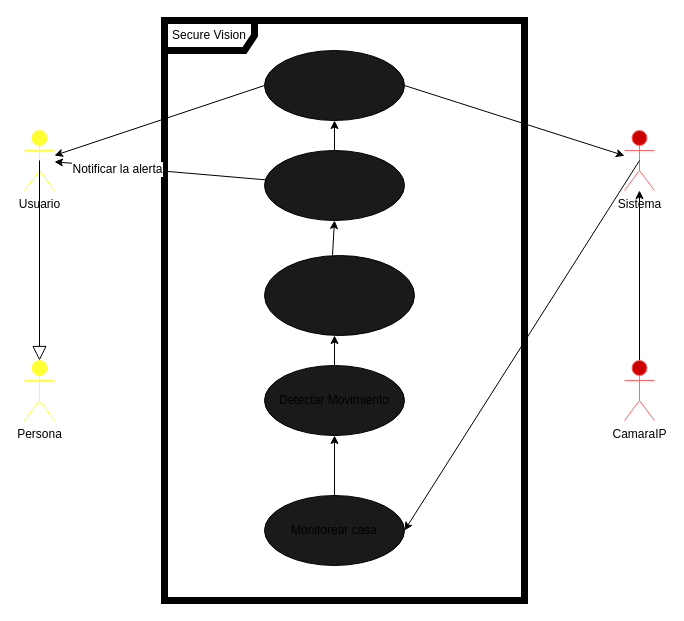
Image size: 684x621. Some labels were removed from this diagram. The centre of each missing label's shape, as x and y in pixels:
Enviar alerta por software secure vision: point 339,295
Login: point 334,85
Verificar la alerta: point 334,185
